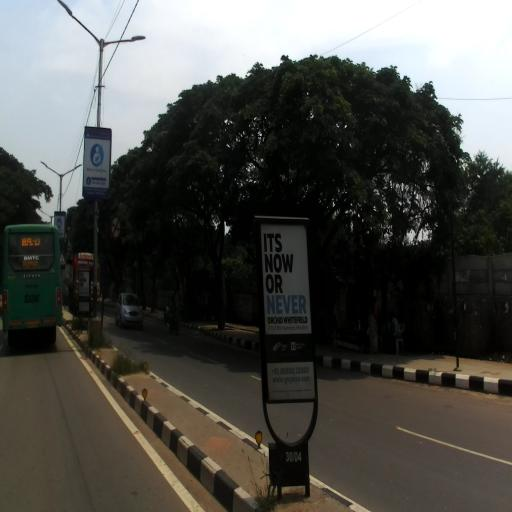street_light_0: (56, 1, 102, 52), (100, 37, 146, 53), (59, 162, 83, 185), (40, 160, 63, 182), (38, 208, 52, 219)
